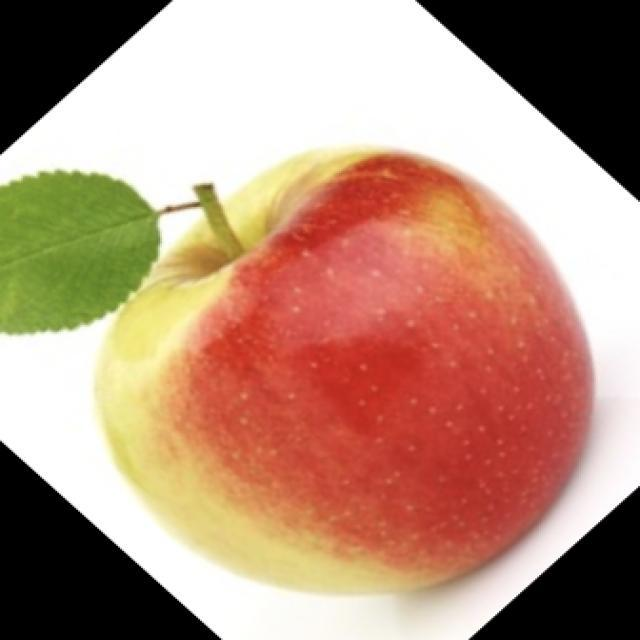Fresh Apple: (123, 135, 595, 640)
